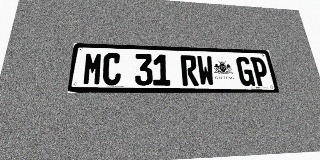1: (153, 54, 170, 86)
3: (135, 54, 153, 86)
C: (102, 53, 122, 85)
G: (235, 57, 255, 86)
M: (82, 52, 103, 85)
P: (250, 57, 270, 86)
R: (180, 55, 199, 86)
W: (196, 56, 215, 86)
